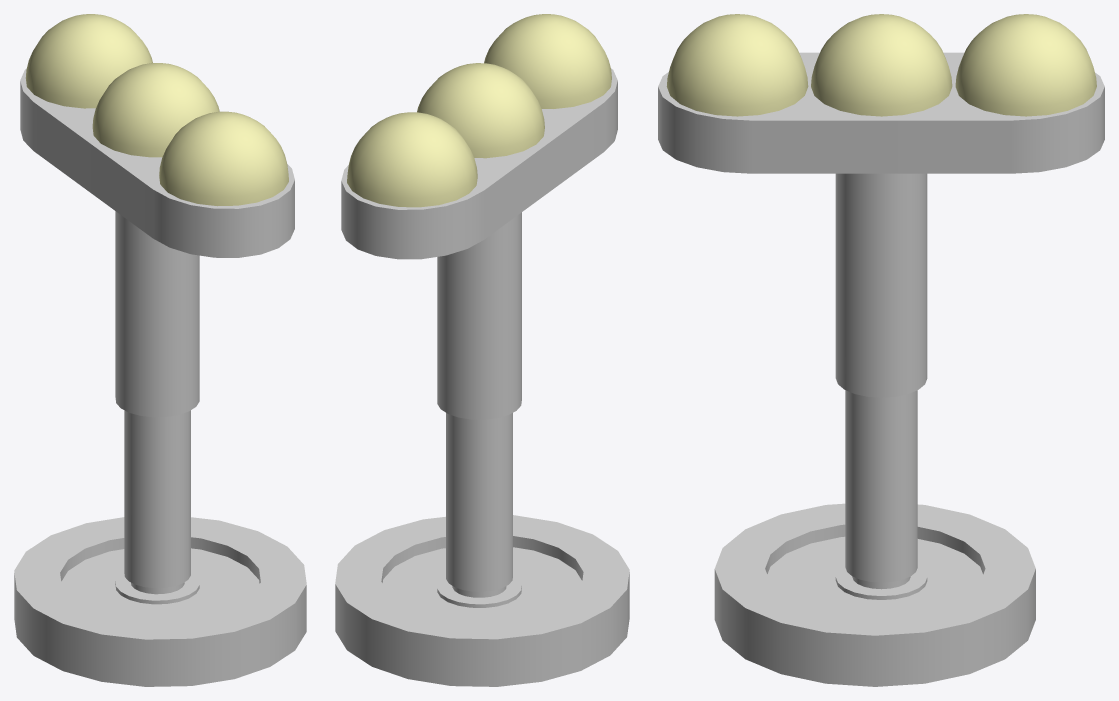
Rendered from Landing_Light_Switch.fbx.
3 views of the same model, side by side, from view 1: azimuth 30°, elevation 25°; view 2: azimuth 150°, elevation 25°; view 3: azimuth 270°, elevation 25° (orthographic). The views are drawn at different scales.
Visible parts, largest first — view 1: Switch1, Switch_baseShape; view 2: Switch1, Switch_baseShape; view 3: Switch1, Switch_baseShape.
Part boxes in pixels (x1,y1,x2,y2): Switch1: [20, 14, 294, 604]; Switch_baseShape: [14, 517, 306, 686]; Switch1: [341, 14, 617, 607]; Switch_baseShape: [335, 515, 629, 686]; Switch1: [658, 14, 1104, 599]; Switch_baseShape: [714, 503, 1035, 686].
Bounding box in the file's own units: 1.73 × 3.62 × 2.44.
